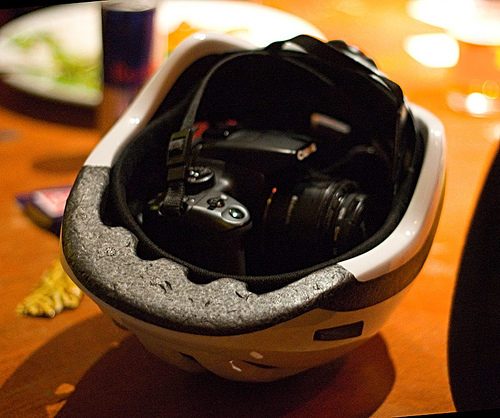helmet: (103, 63, 437, 358)
